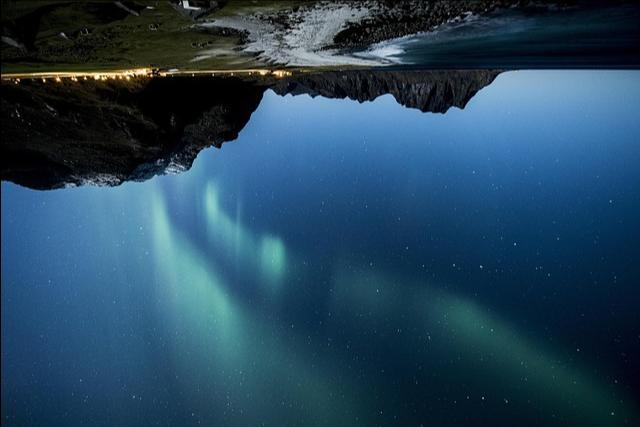Non_Gorille: (0, 4, 639, 427)
